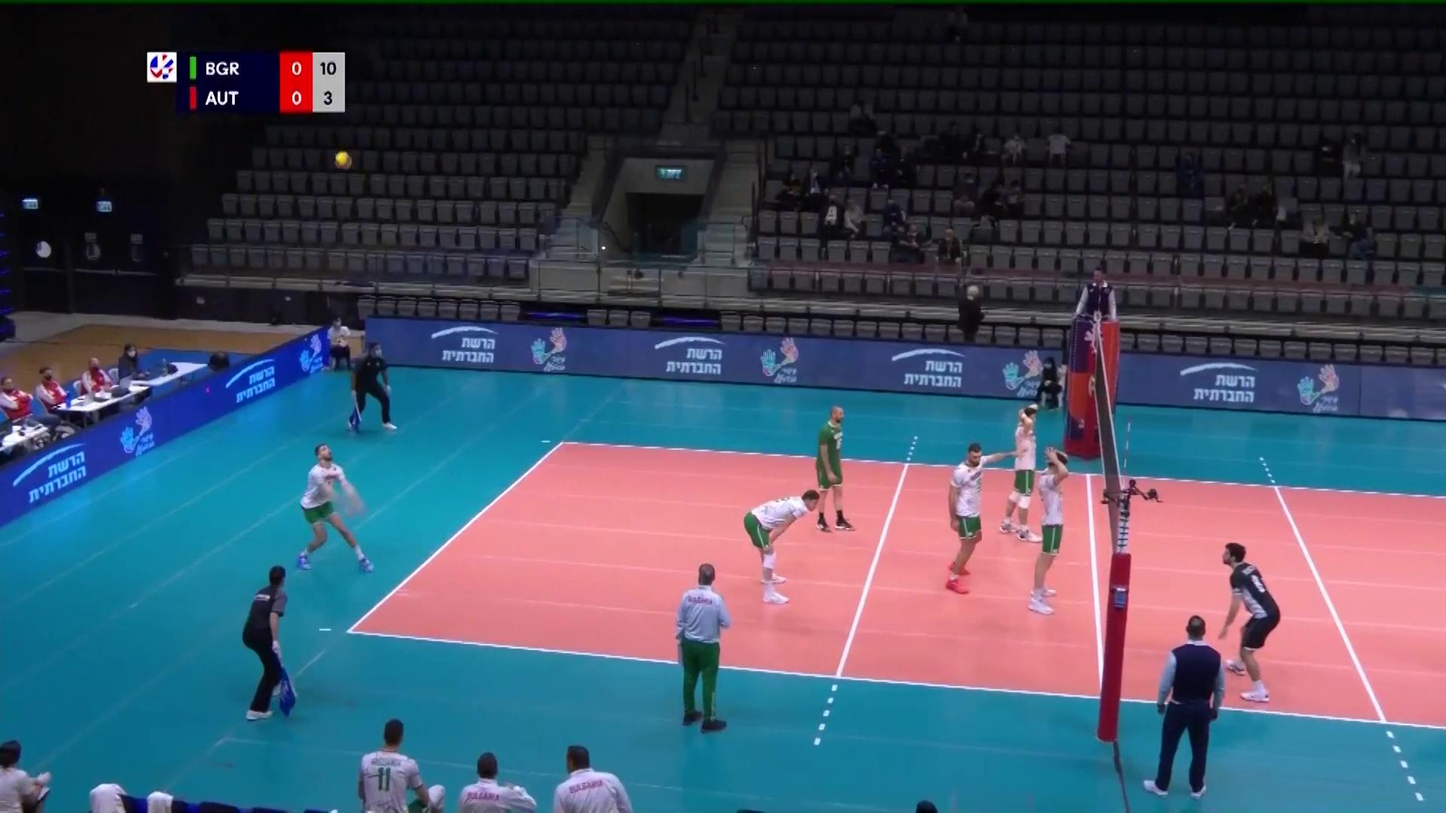ball: (331, 149, 352, 171)
